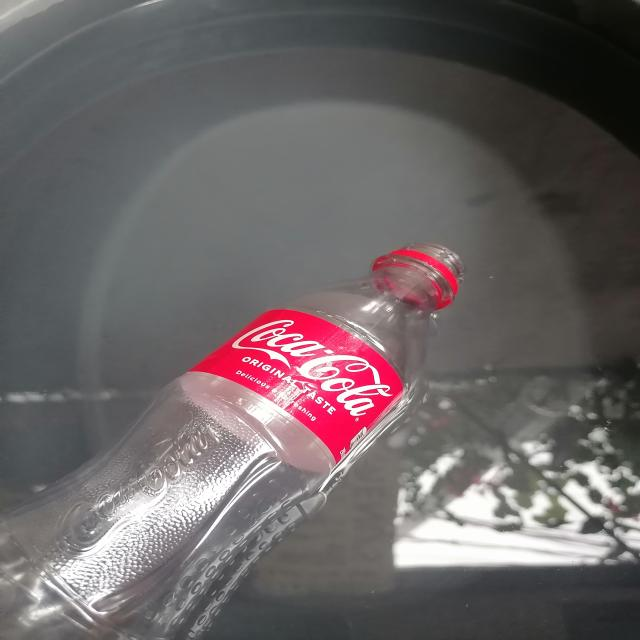Plastic Bottle: (0, 244, 464, 640)
